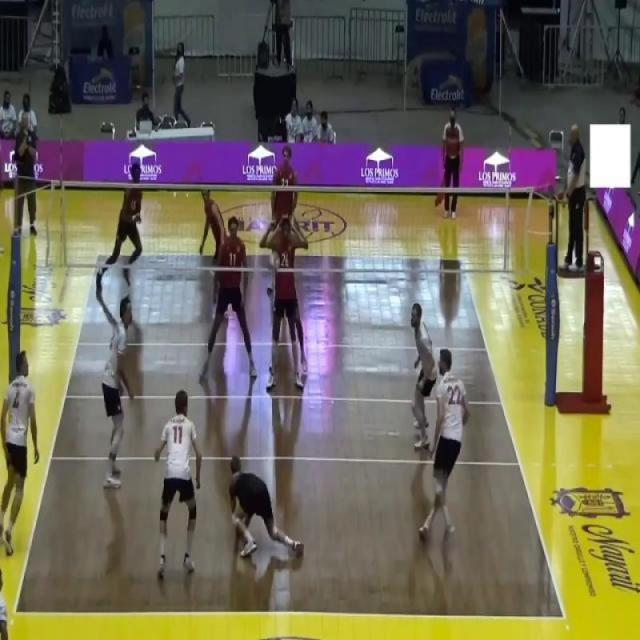volleyball: (268, 250, 280, 271)
